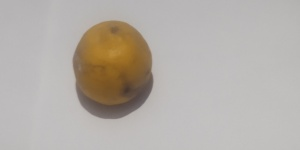BAD: (73, 18, 156, 109)
